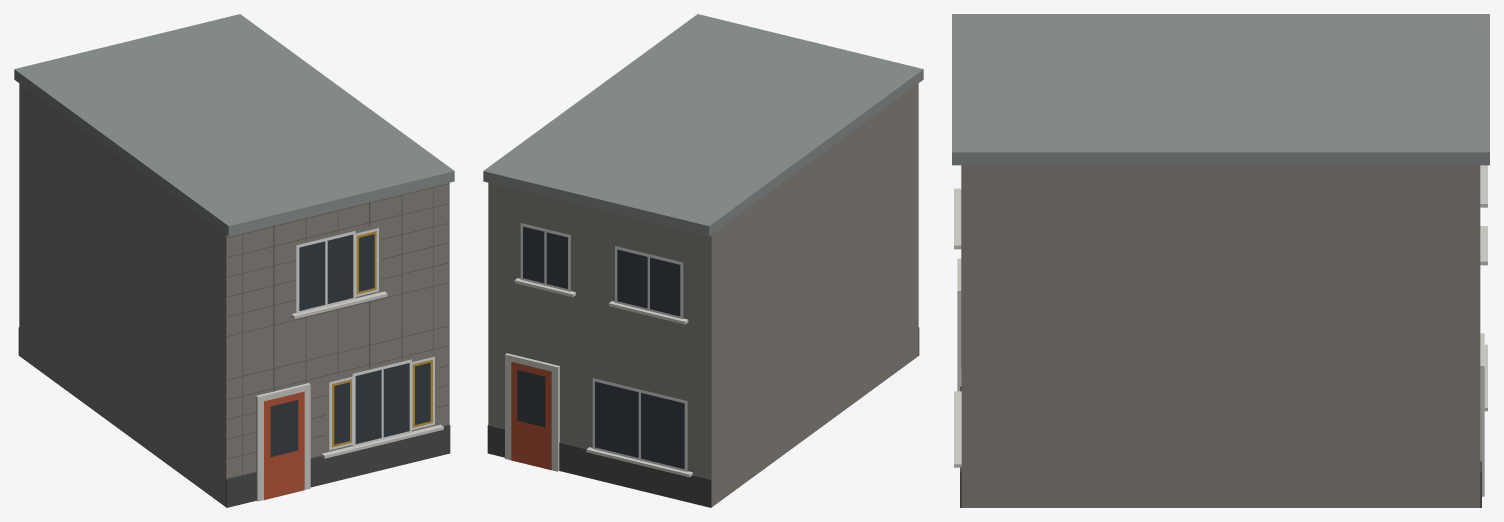
Rendered from nd-td-panel__grey__2__flat__long__solid.glb.
The picture shows the model from 3 angles, left to right: view 1: azimuth 30°, elevation 25°; view 2: azimuth 150°, elevation 25°; view 3: azimuth 270°, elevation 25°; orthographic projection. The views are drawn at different scales.
Visible parts, largest first — view 1: nd-td-panel__grey__2__flat__long__solid; view 2: nd-td-panel__grey__2__flat__long__solid; view 3: nd-td-panel__grey__2__flat__long__solid.
Part boxes in pixels (left/top/right/bottom): nd-td-panel__grey__2__flat__long__solid: left=14, top=14, right=454, bottom=507; nd-td-panel__grey__2__flat__long__solid: left=483, top=14, right=923, bottom=507; nd-td-panel__grey__2__flat__long__solid: left=952, top=14, right=1489, bottom=507.
Bounding box in the file's own units: 5.03 × 6.05 × 8.27.
